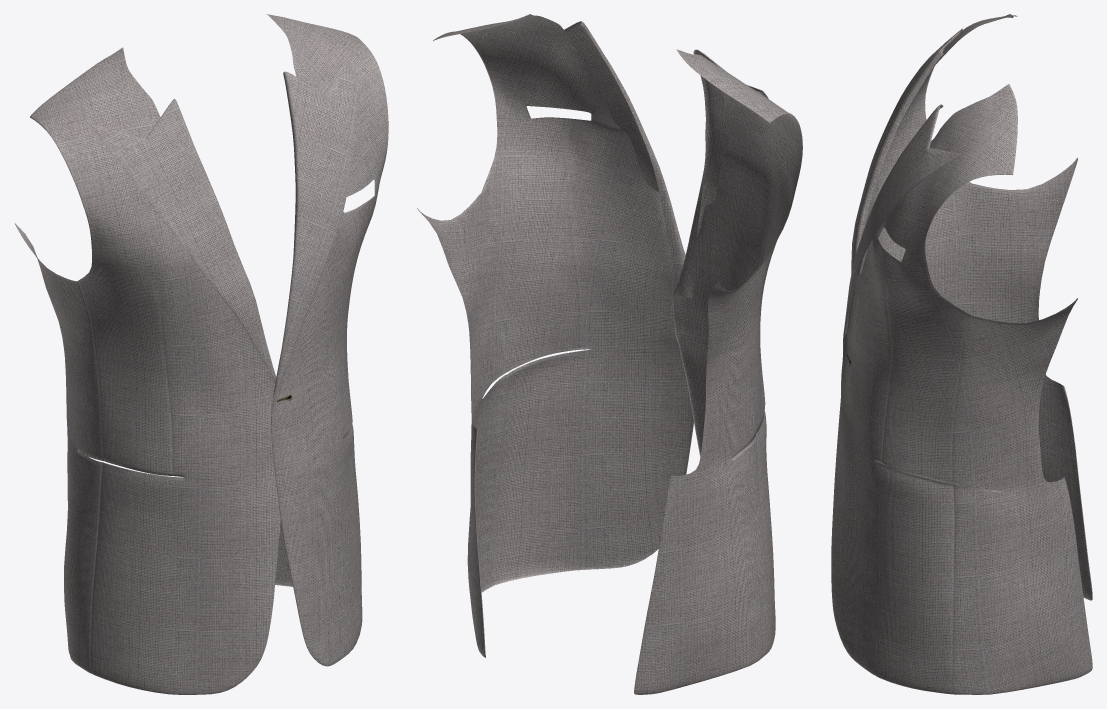
File: peak_single_button.glb
3 views of the same model, side by side, from view 1: azimuth 30°, elevation 25°; view 2: azimuth 150°, elevation 25°; view 3: azimuth 270°, elevation 25° (orthographic). The views are drawn at different scales.
Parts seen in each view (by area): view 1: peak_single_button3; view 2: peak_single_button3; view 3: peak_single_button3.
Part boxes in pixels (x1=…): peak_single_button3: x1=15, y1=14, x2=388, y2=694; peak_single_button3: x1=417, y1=14, x2=802, y2=694; peak_single_button3: x1=831, y1=14, x2=1092, y2=694.
Size of the model in its own units: 0.0585 by 0.102 by 0.0411.
Materials: 2 (2 with a texture image).
